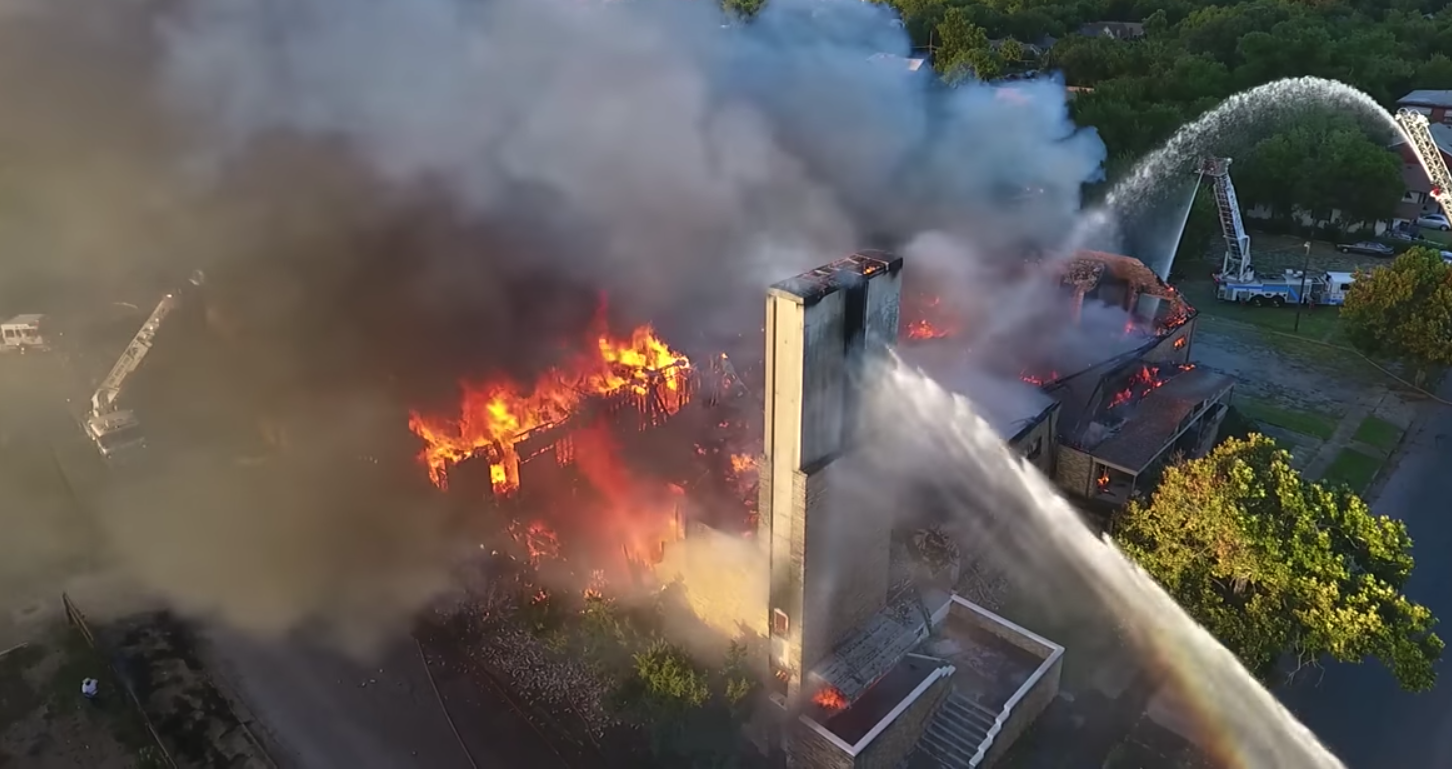fire: (405, 309, 712, 499)
